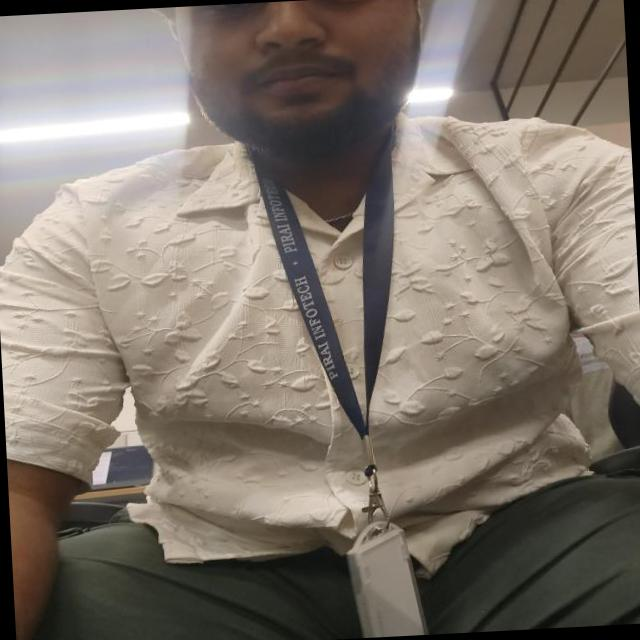id_card: (224, 134, 455, 640)
